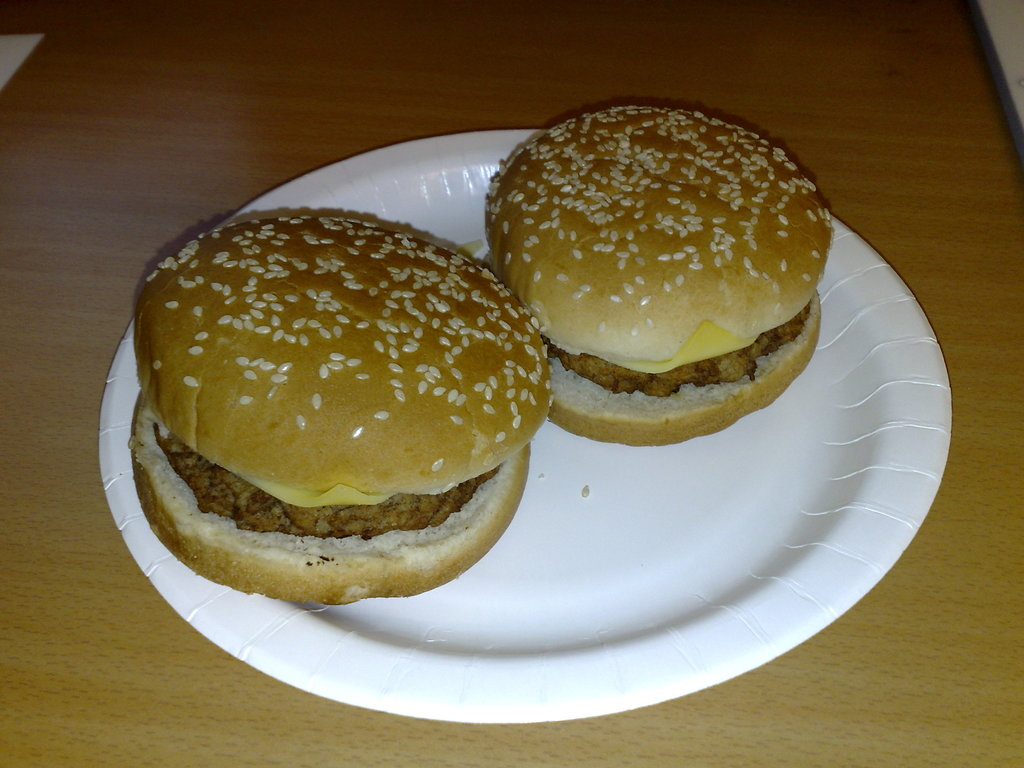Hamburger: (124, 214, 554, 607), (129, 218, 548, 604), (480, 104, 833, 448), (488, 106, 835, 444)
